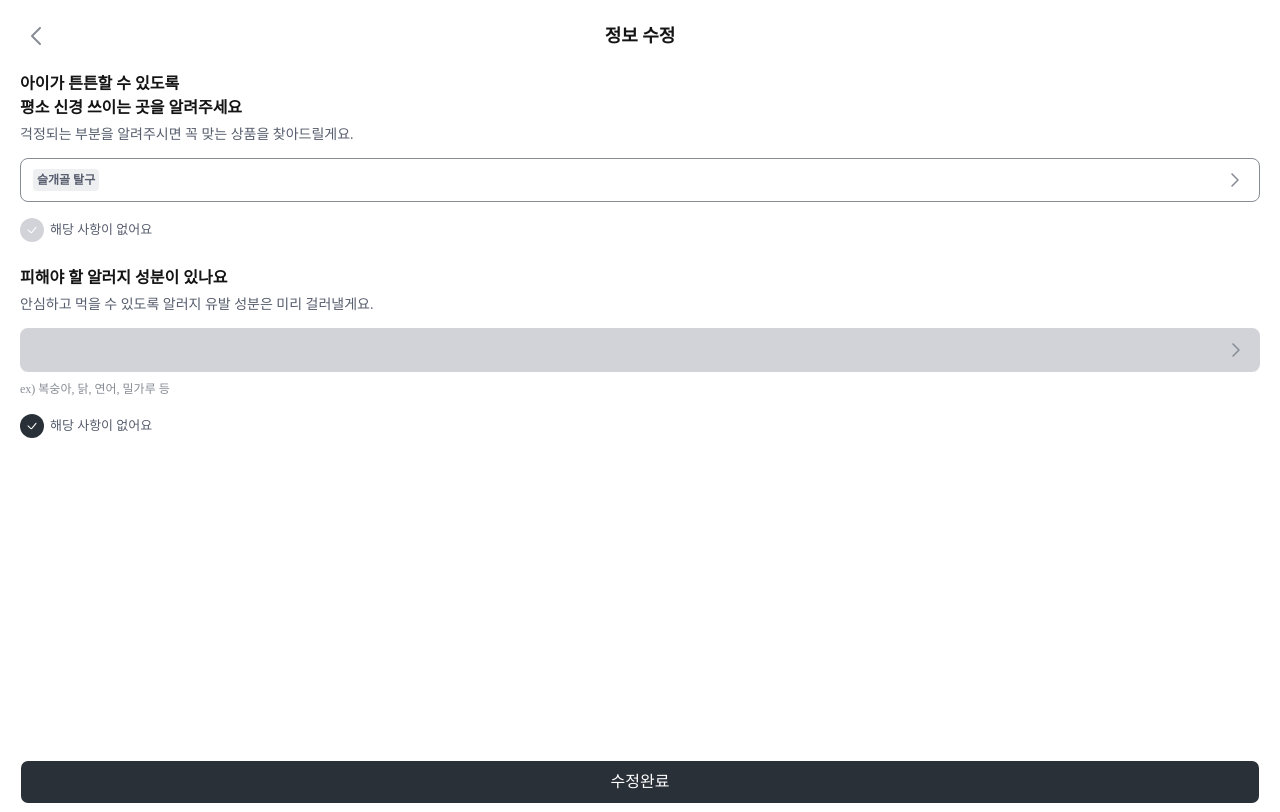
Test: 두 항목 모두 답이 있어야 고칠 수 있다
신경 쓰이는 곳의 해당 없음을 켰다 끄면 값이 비어 답이 없어진다
Click the checkbox below "걱정되는 부분을 알려주시면 꼭 맞는 상품을 찾아드릴게요." at (32, 230), box left=20, top=218, right=44, bottom=242
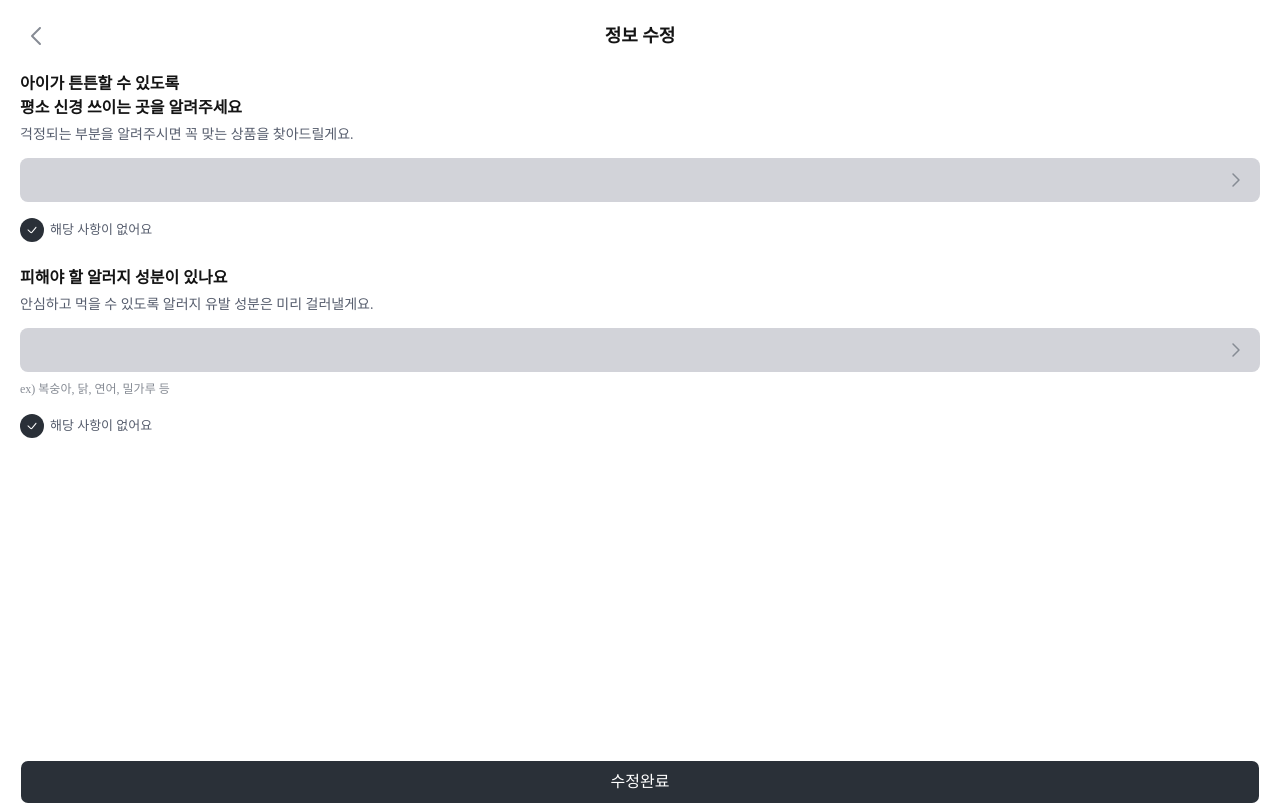
Click the checkbox below "걱정되는 부분을 알려주시면 꼭 맞는 상품을 찾아드릴게요." at (32, 230), box left=20, top=218, right=44, bottom=242
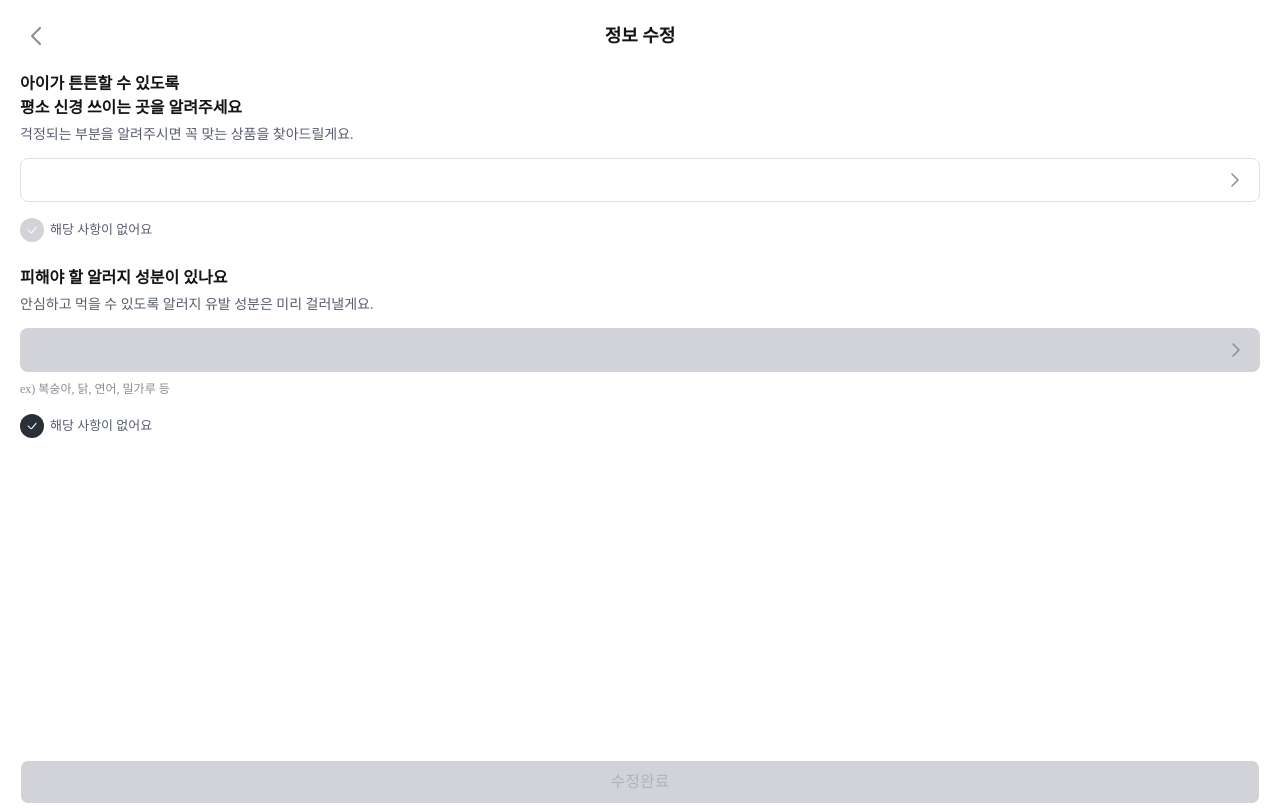
Check: the button "수정완료" is disabled, box left=20, top=760, right=1260, bottom=804
